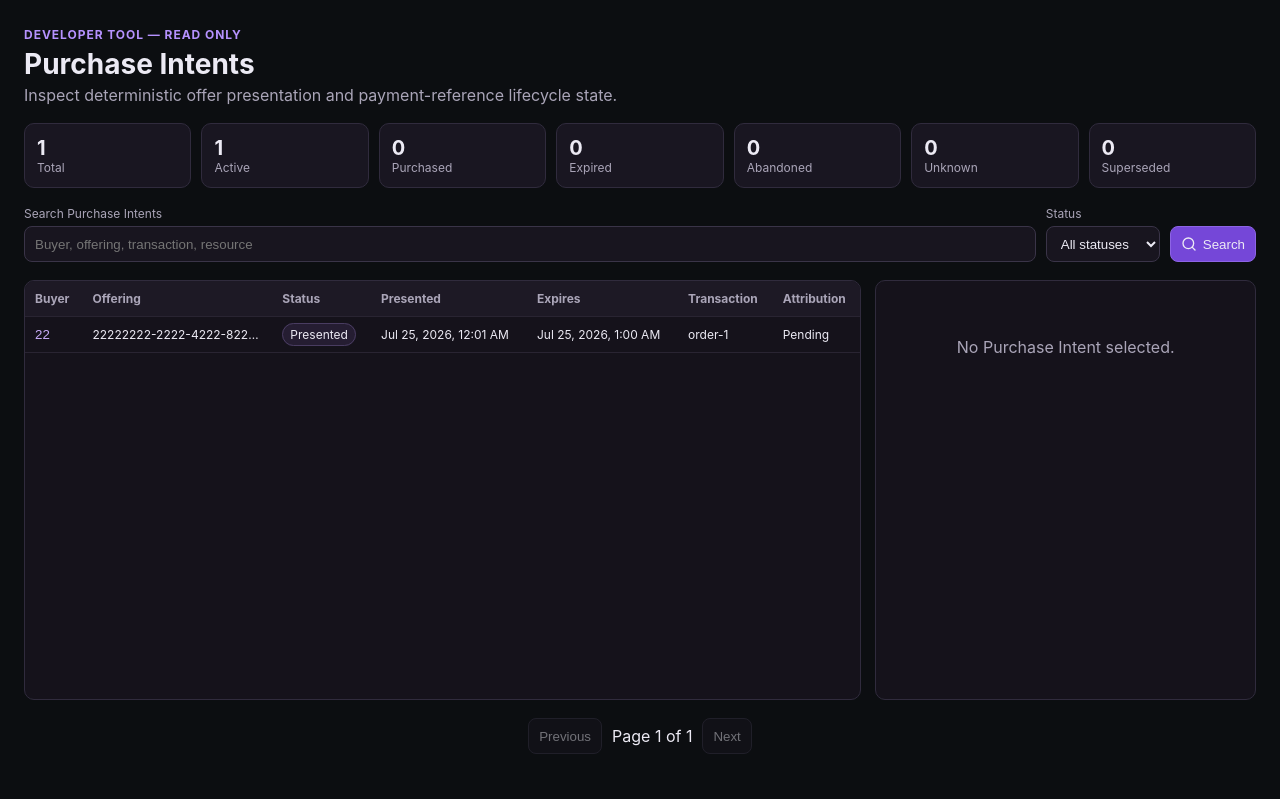
it: PurchaseIntentsPage › renders a read-only master/detail lifecycle view
The width and height of the screenshot is (1280, 799).
Expected: the text "No Purchase Intent selected." is shown, left=957, top=337, right=1174, bottom=357
Step 1. Click the button "22" → click(42, 334), box left=35, top=327, right=50, bottom=342
(page scrolled)
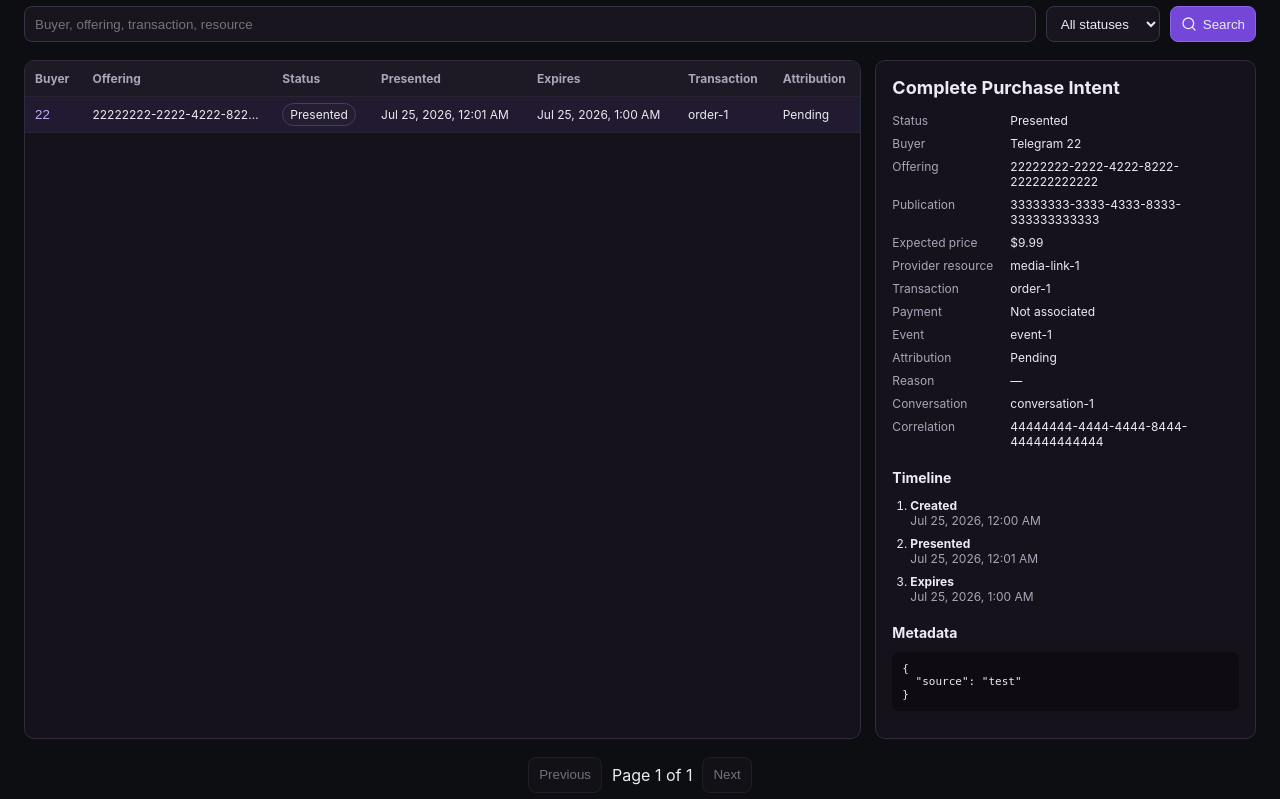
Expected: the element labelled "Complete Purchase Intent" shows "order-1", left=1010, top=281, right=1051, bottom=296
Expected: the element labelled "Complete Purchase Intent" shows "$9.99", left=1010, top=235, right=1044, bottom=250
Expected: the element labelled "Complete Purchase Intent" shows "\"source\": \"test\"", left=902, top=662, right=1022, bottom=701
